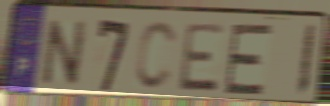7: (98, 15, 131, 93)
C: (132, 19, 180, 93)
E: (222, 22, 276, 97), (176, 21, 228, 94)
I: (294, 23, 319, 100)
N: (37, 18, 91, 89)
